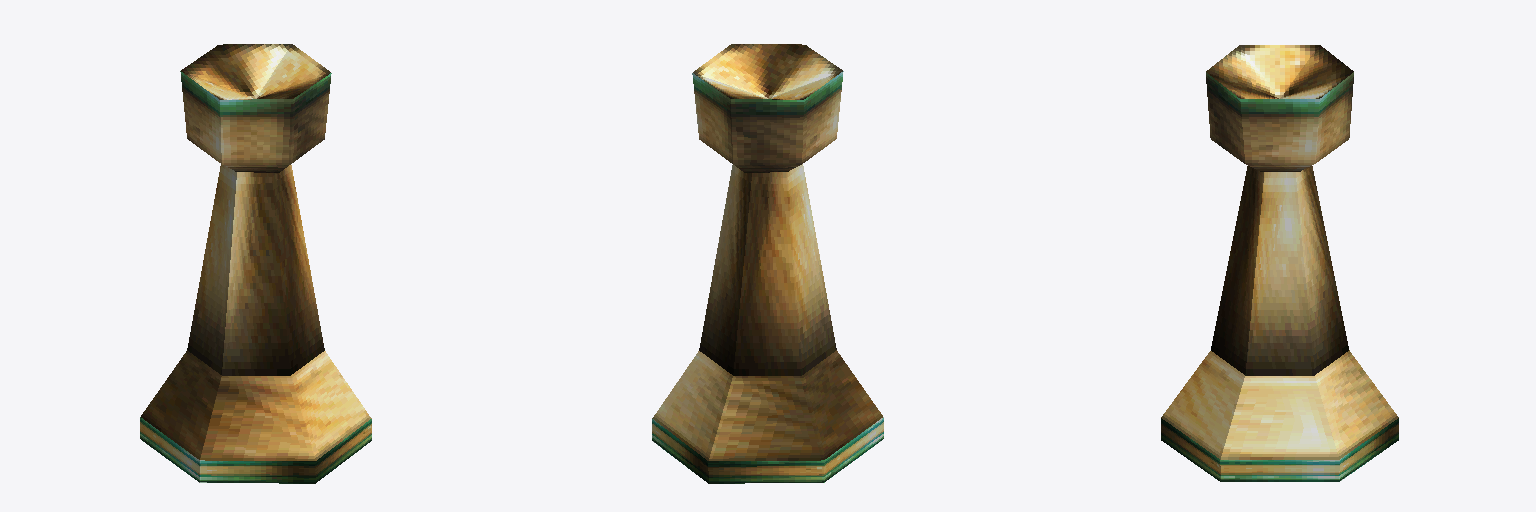
3 renders of one model, left to right at view 1: azimuth 30°, elevation 25°; view 2: azimuth 150°, elevation 25°; view 3: azimuth 270°, elevation 25°, orthographic.
Visible parts, largest first — view 1: Mesh2 Group3 Group1 Model, Mesh1 Group2 Group1 Model; view 2: Mesh2 Group3 Group1 Model, Mesh1 Group2 Group1 Model; view 3: Mesh2 Group3 Group1 Model, Mesh1 Group2 Group1 Model.
Part boxes in pixels (bbox=[...]): Mesh2 Group3 Group1 Model: bbox=[140, 164, 371, 483]; Mesh1 Group2 Group1 Model: bbox=[180, 44, 331, 172]; Mesh2 Group3 Group1 Model: bbox=[652, 164, 883, 483]; Mesh1 Group2 Group1 Model: bbox=[692, 44, 843, 172]; Mesh2 Group3 Group1 Model: bbox=[1161, 166, 1398, 481]; Mesh1 Group2 Group1 Model: bbox=[1206, 45, 1353, 171].
Bounding box in the file's own units: 1.89 × 3.87 × 2.27.
7 materials, 6 textured.